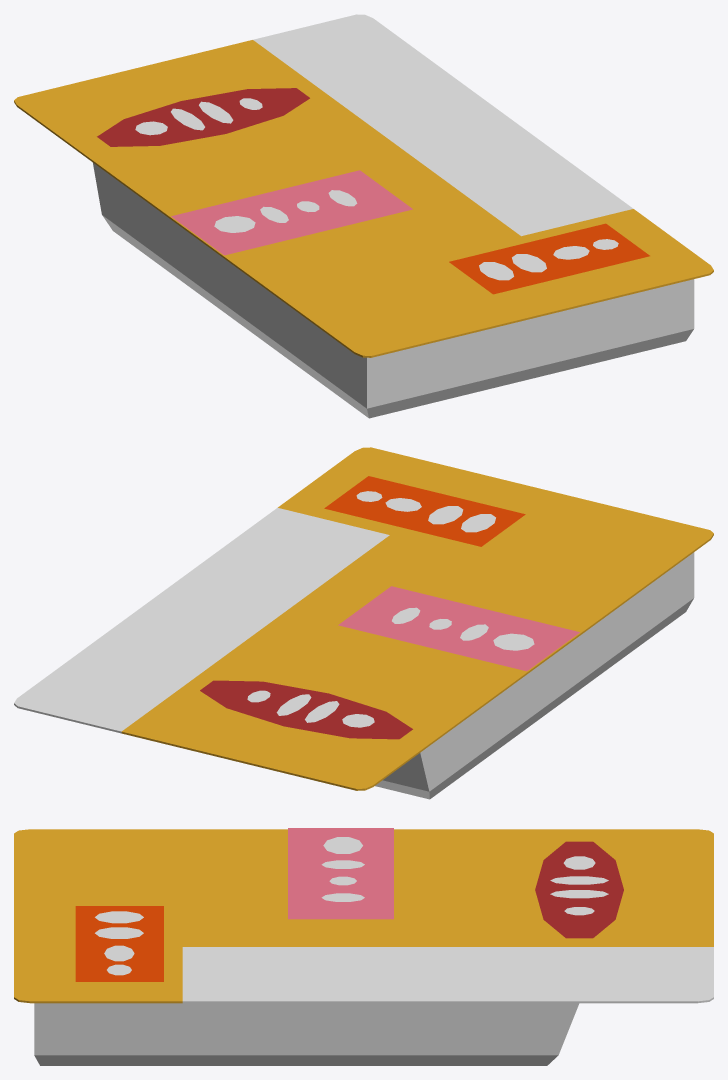
Rendered from Ma_Ham_1.fbx.
3 renders of one model, top to bottom at view 1: azimuth 30°, elevation 25°; view 2: azimuth 150°, elevation 25°; view 3: azimuth 270°, elevation 25°, orthographic.
Visible parts, largest first — view 1: Ma_Ham_1; view 2: Ma_Ham_1; view 3: Ma_Ham_1.
Part boxes in pixels (<box>): Ma_Ham_1: <box>14,14,713,418</box>; Ma_Ham_1: <box>14,447,713,799</box>; Ma_Ham_1: <box>14,828,713,1065</box>.
Bounding box in the file's own units: 87.42 × 150 × 19.41.
